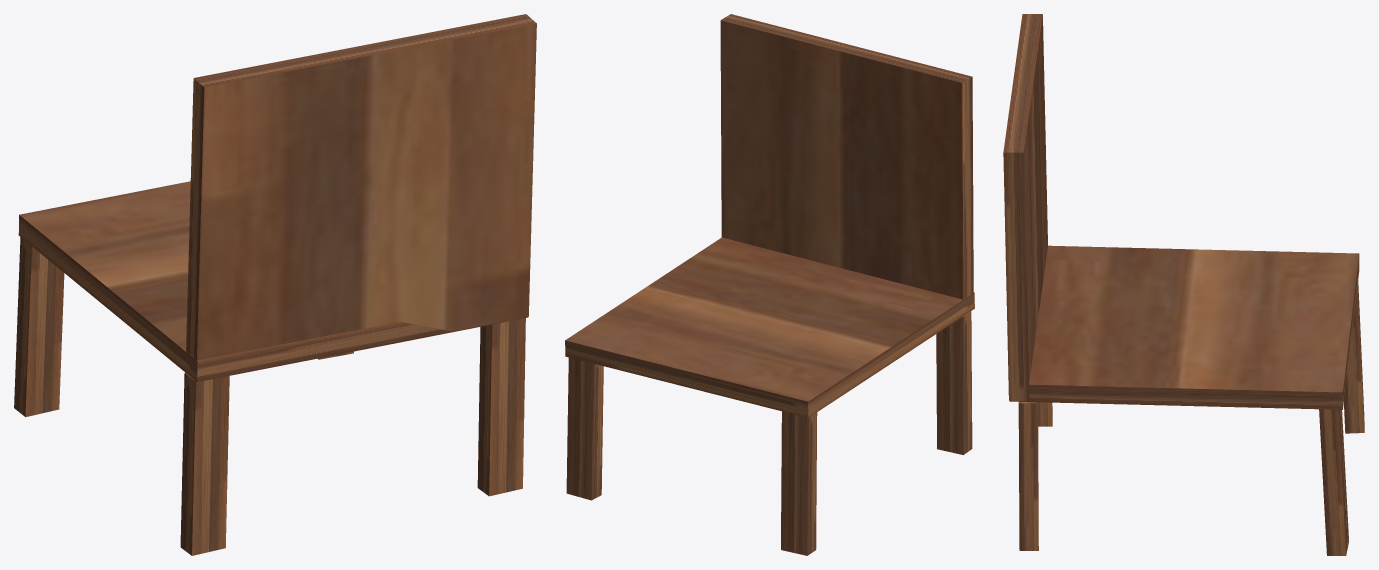
File: wooden chairs.glb
The picture shows the model from 3 angles, left to right: view 1: azimuth 30°, elevation 25°; view 2: azimuth 150°, elevation 25°; view 3: azimuth 270°, elevation 25°; orthographic projection. The views are drawn at different scales.
Parts seen in each view (by area): view 1: Cube; view 2: Cube; view 3: Cube.
Boxes of the visible parts, x1,y1,x2,y2 form: Cube: (14,14,536,555); Cube: (565,14,974,555); Cube: (1003,14,1364,555).
Bounding box in the file's own units: 2.79 × 3.74 × 3.02.
1 material, 1 textured.
